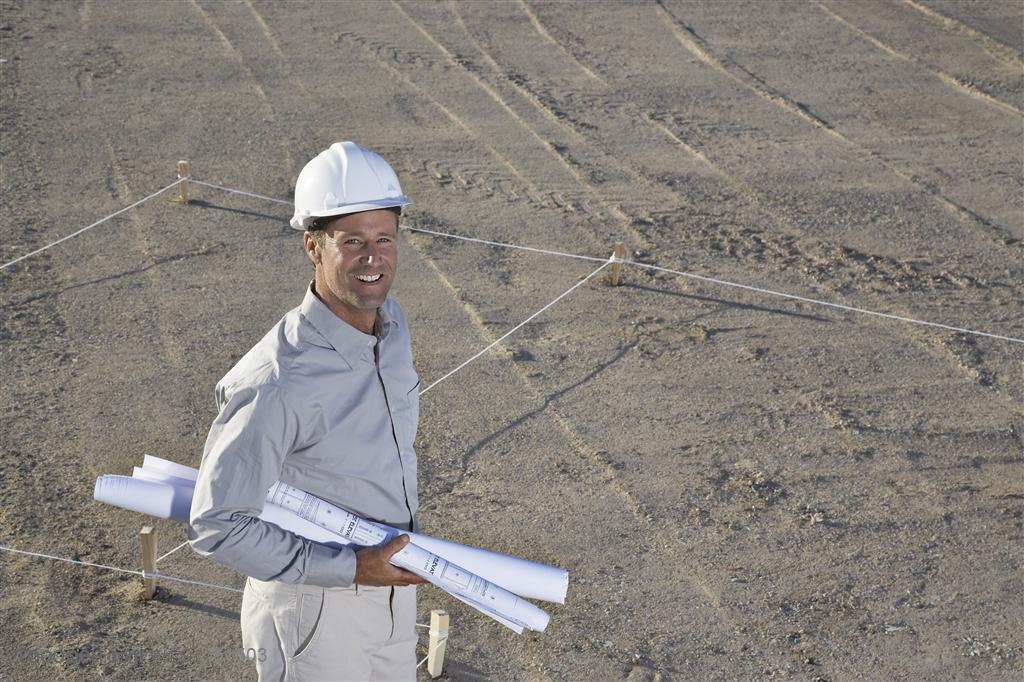helmet: (290, 139, 414, 232)
